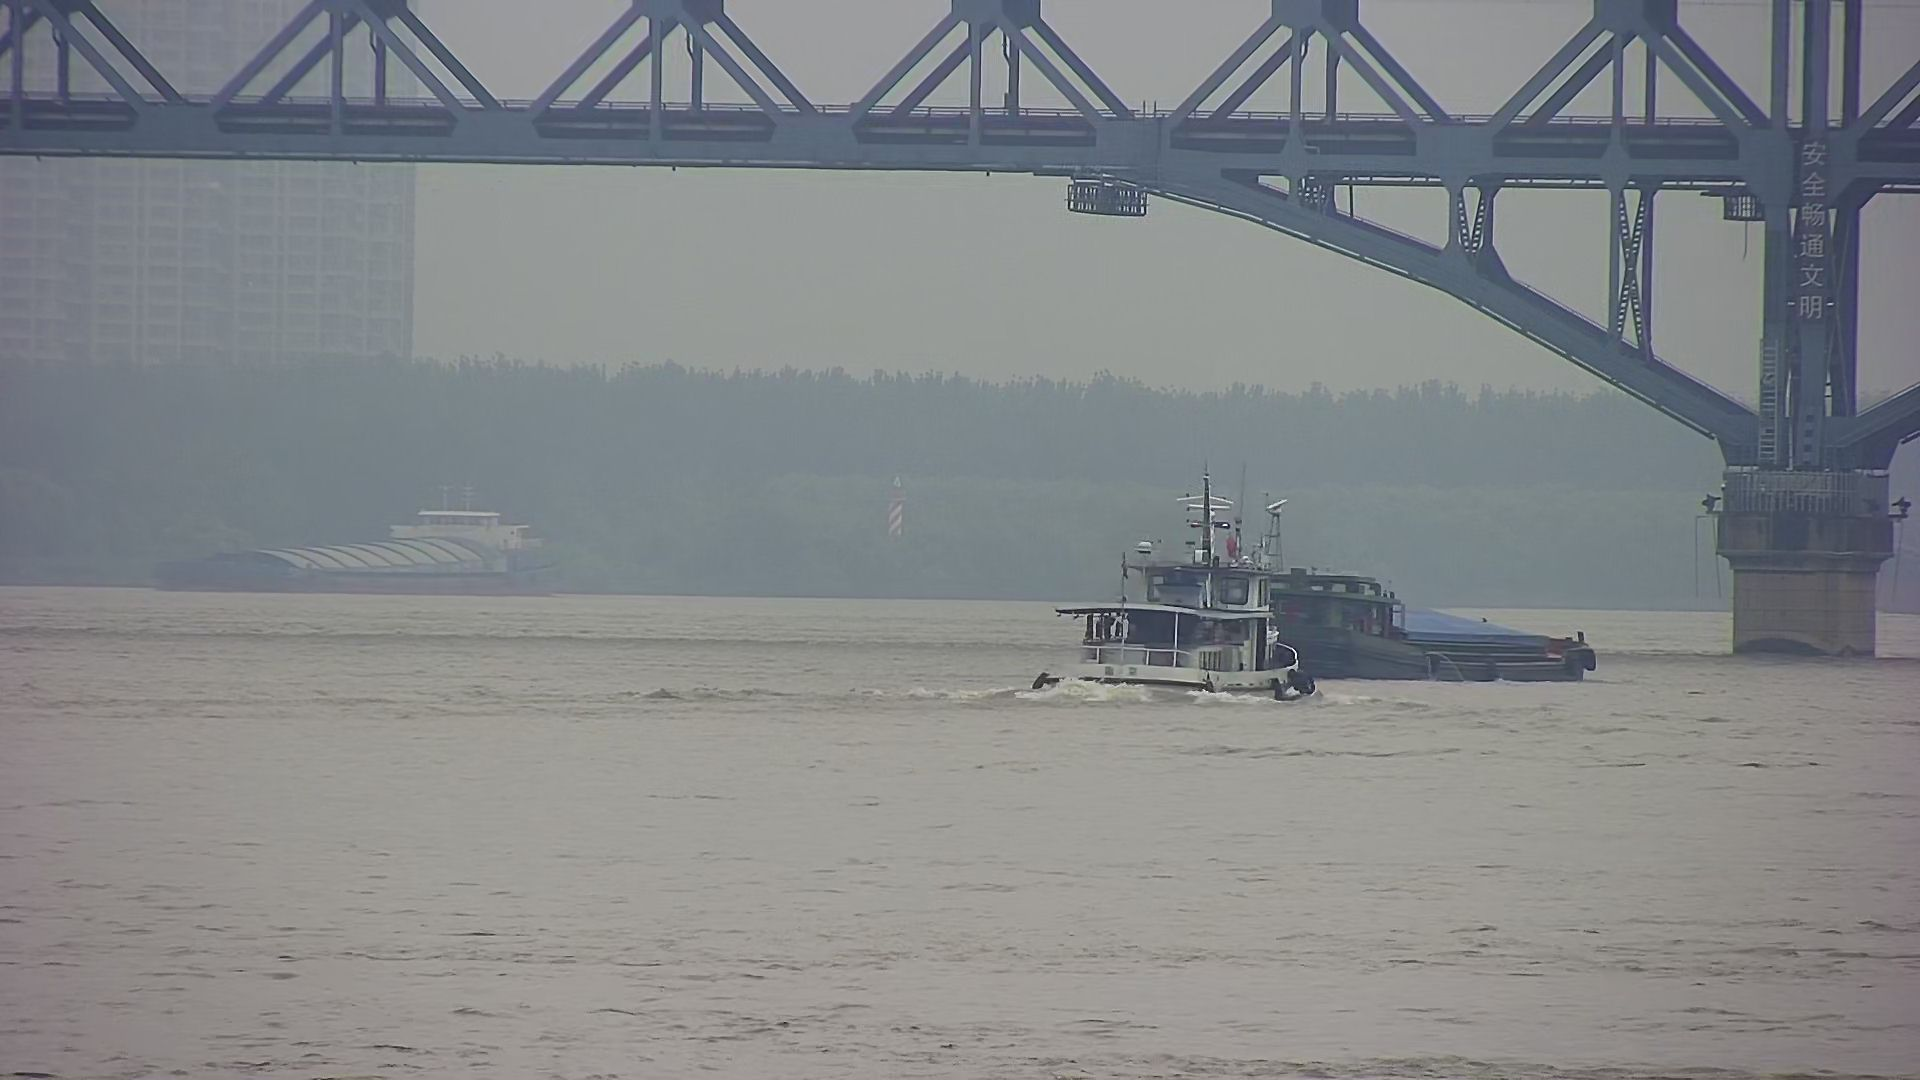bridge: (1, 3, 1915, 665)
ship: (1011, 464, 1329, 716), (1246, 488, 1615, 691), (148, 465, 593, 604)
